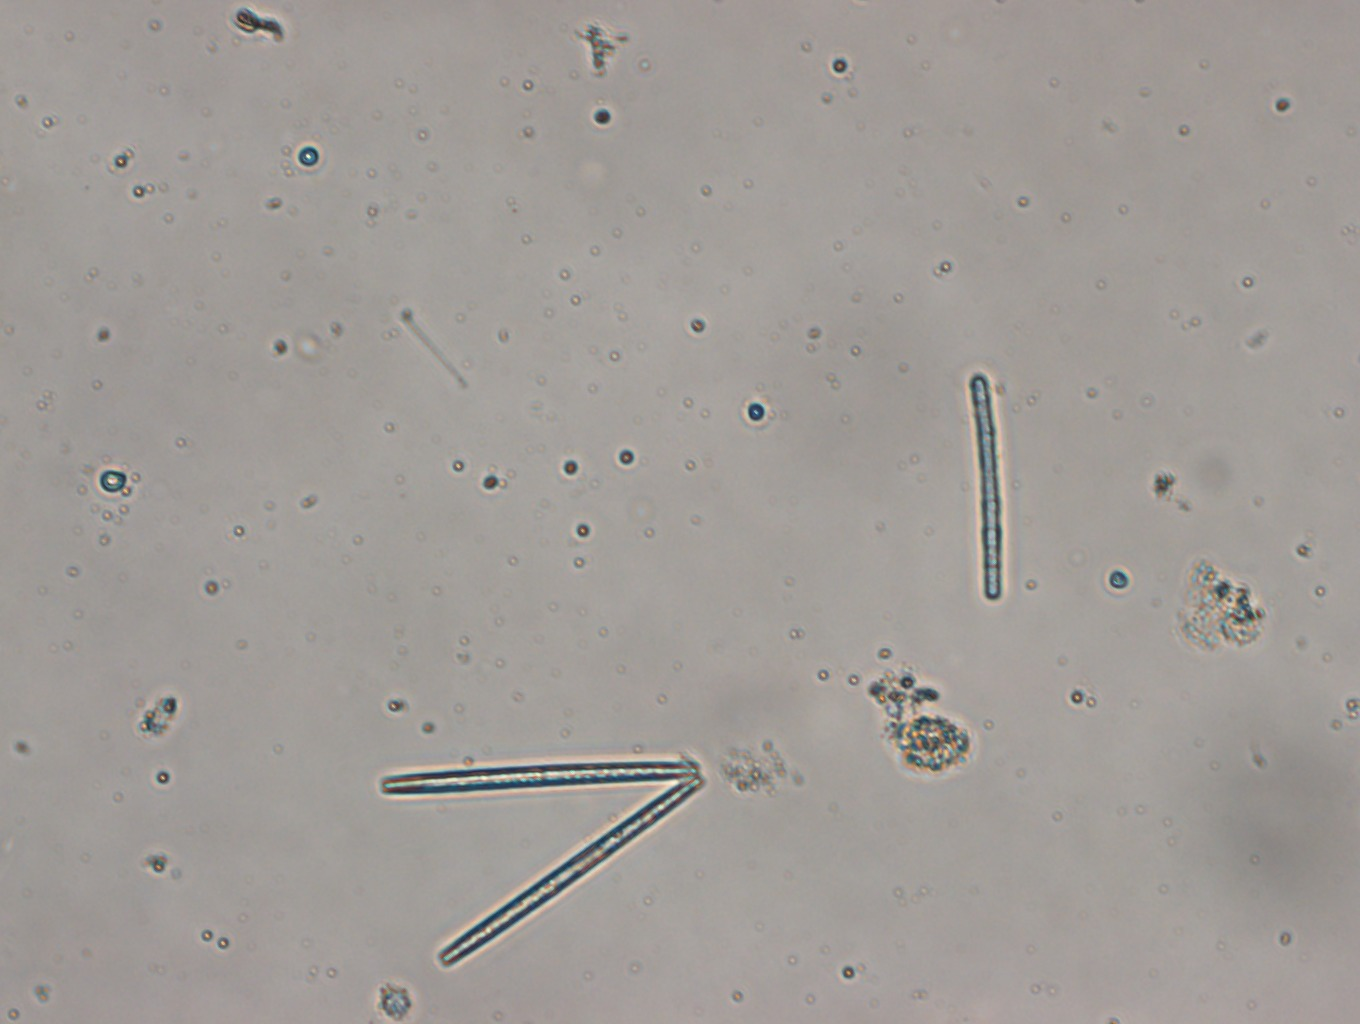thalassionema nitzschioides: (375, 755, 707, 967)
